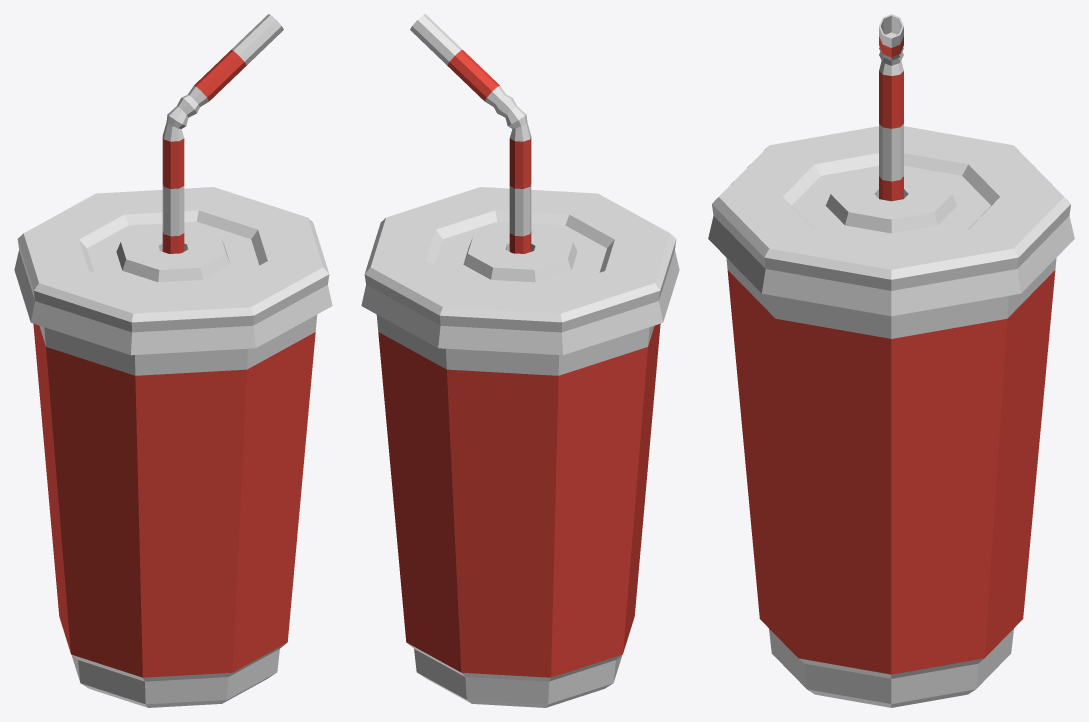
The model's file is item5.fbx.
3 renders of one model, left to right at view 1: azimuth 30°, elevation 25°; view 2: azimuth 150°, elevation 25°; view 3: azimuth 270°, elevation 25°, orthographic. The views are drawn at different scales.
Parts seen in each view (by area): view 1: Soda; view 2: Soda; view 3: Soda.
Boxes of the visible parts, bbox=[...] form: Soda: bbox=[14, 14, 332, 707]; Soda: bbox=[361, 14, 679, 707]; Soda: bbox=[708, 14, 1074, 707].
Size of the model in its own units: 91.18 by 192 by 91.18.
